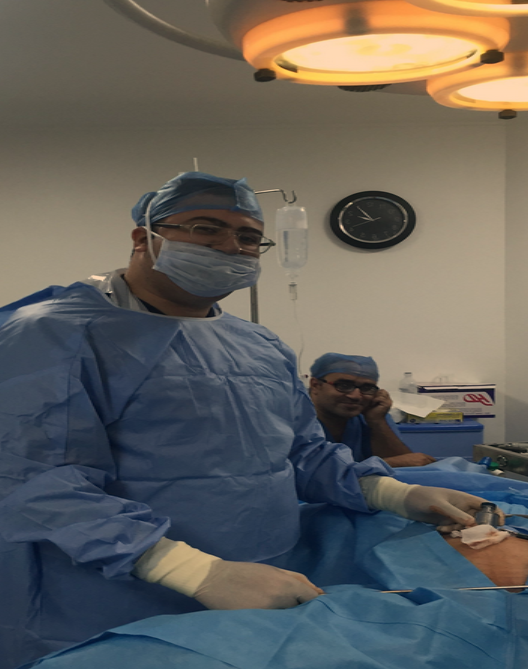mask_weared_incorrect: (130, 176, 283, 302)
